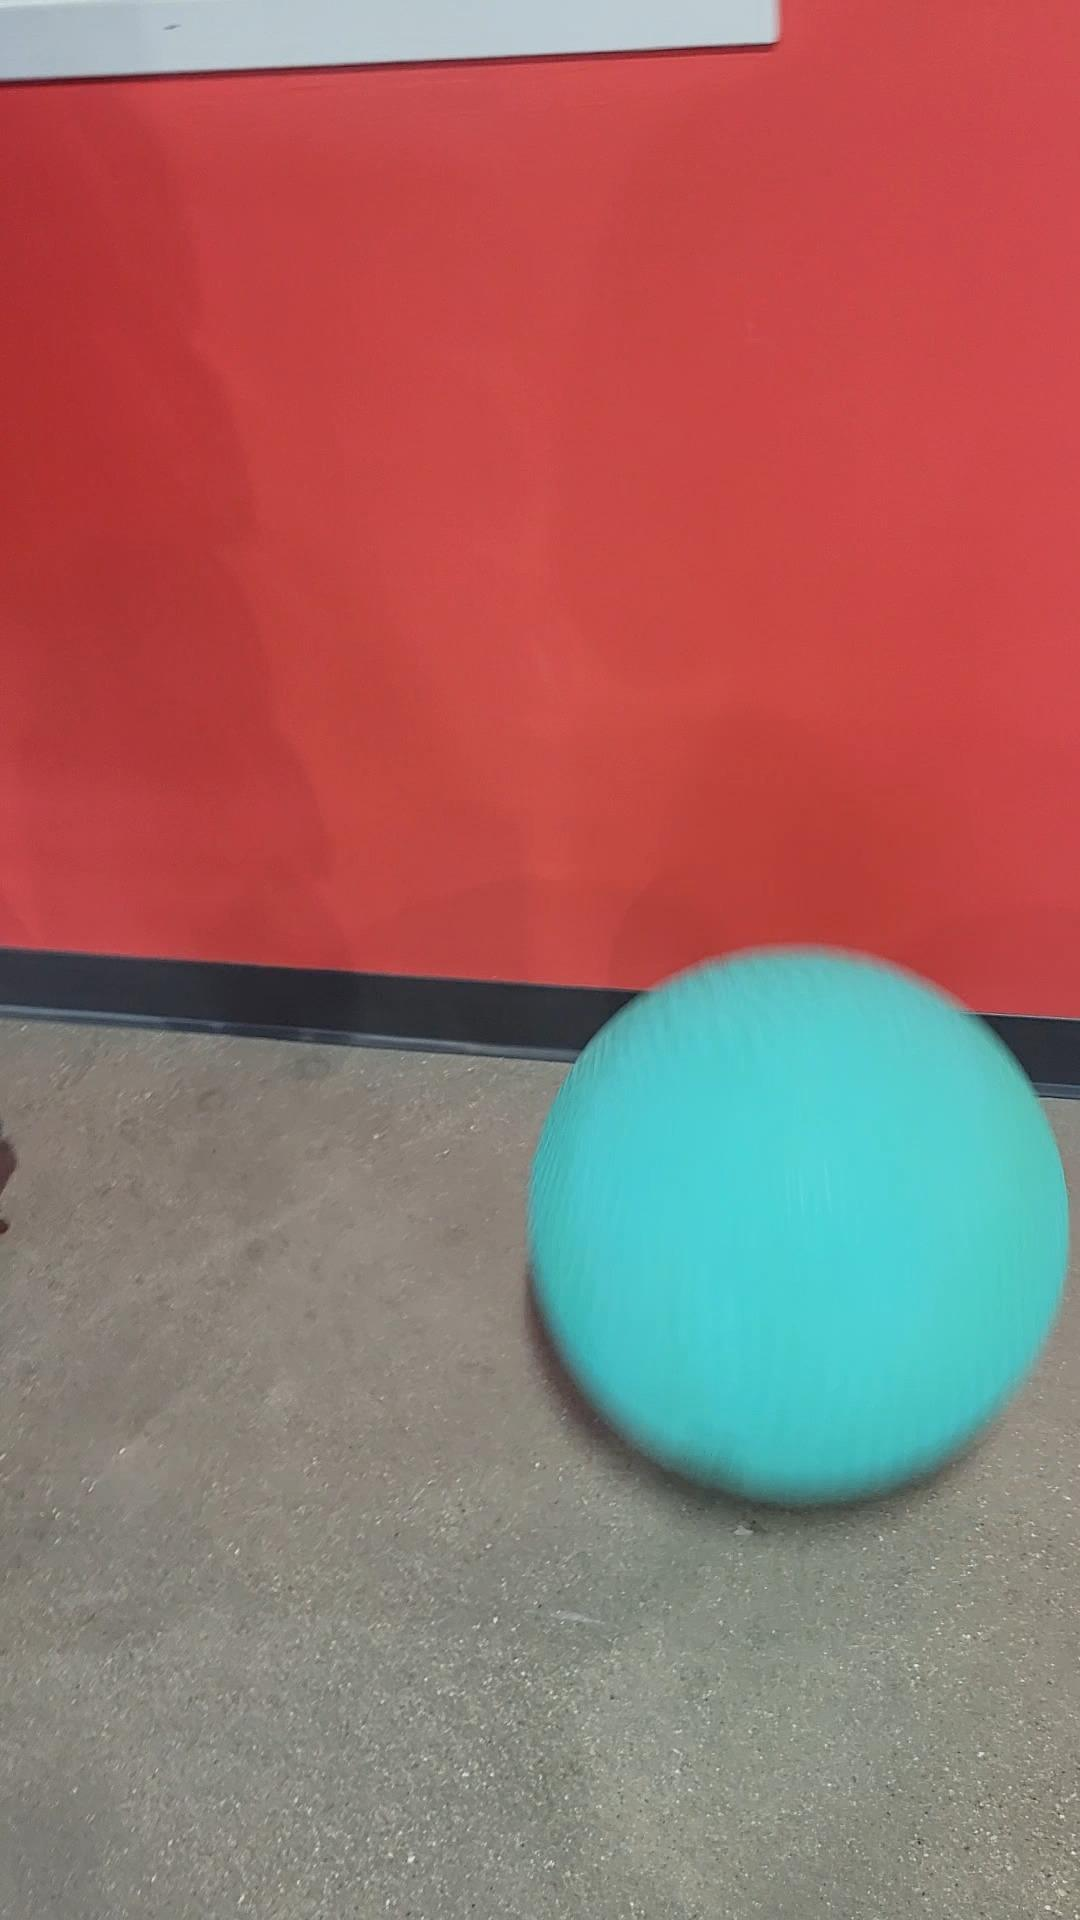algae: (526, 956, 1055, 1489)
